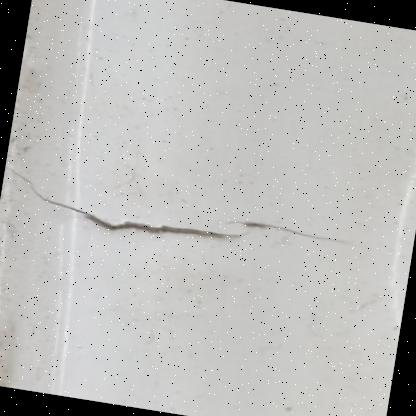Crack: (0, 145, 371, 292)
